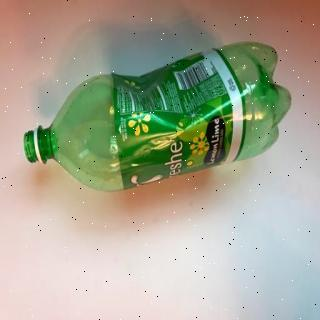Plastic-bottle: (24, 40, 294, 196)
